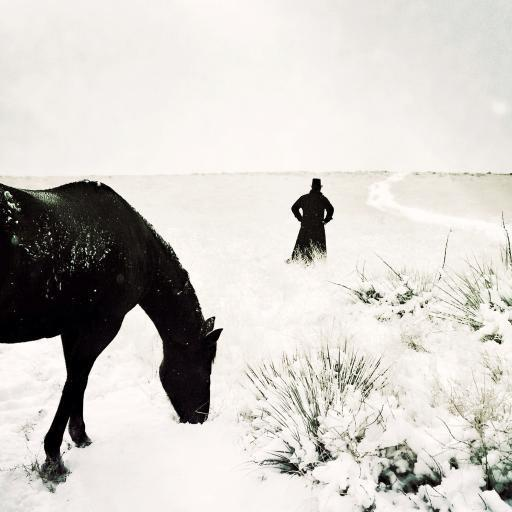horse: (0, 177, 224, 482)
